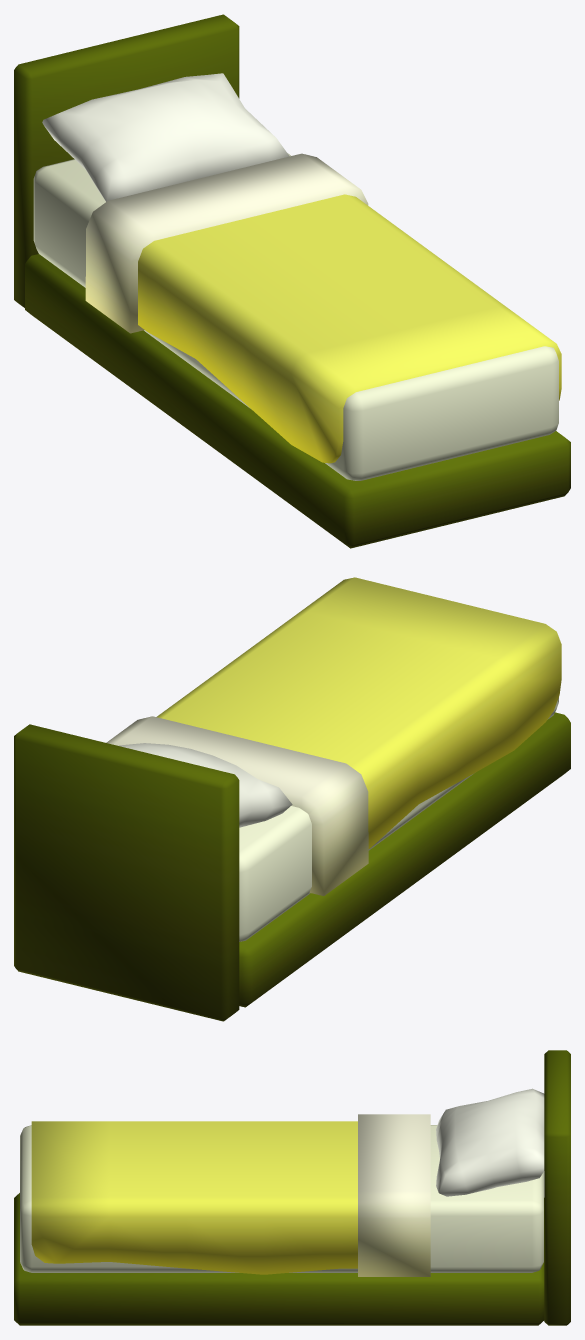
File: SM_Bed_8.fbx
3 renders of one model, top to bottom at view 1: azimuth 30°, elevation 25°; view 2: azimuth 150°, elevation 25°; view 3: azimuth 270°, elevation 25°, orthographic. The views are drawn at different scales.
Visible parts, largest first — view 1: SM_Bed_8; view 2: SM_Bed_8; view 3: SM_Bed_8.
Part boxes in pixels (x1,y1,x2,y2): SM_Bed_8: [14, 14, 570, 548]; SM_Bed_8: [14, 577, 570, 1021]; SM_Bed_8: [14, 1050, 570, 1325].
Size of the model in its own units: 84.28 by 80.83 by 210.
1 material, 1 textured.
